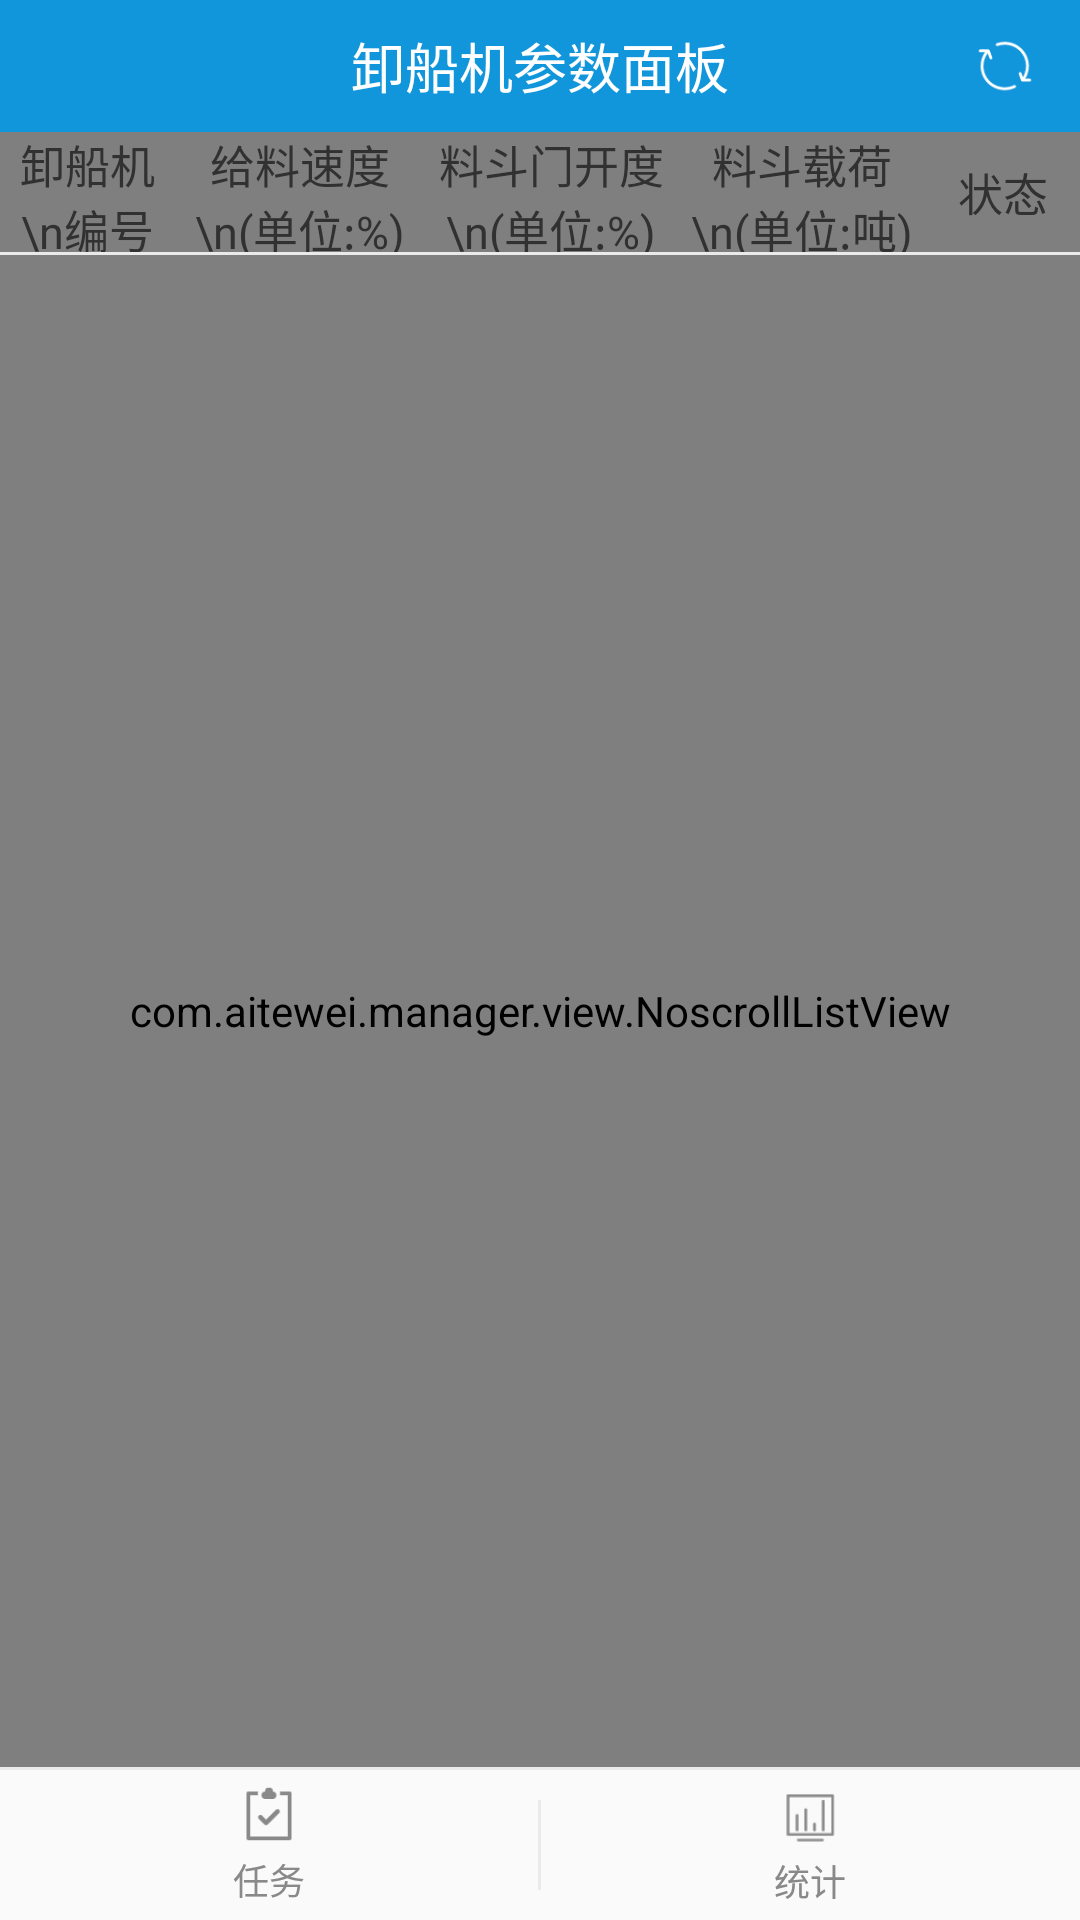

Icons on this 1080px x 1920px Android screen, each with the point to tap as [x,y]:
ship detail refresh: [1005,66]
